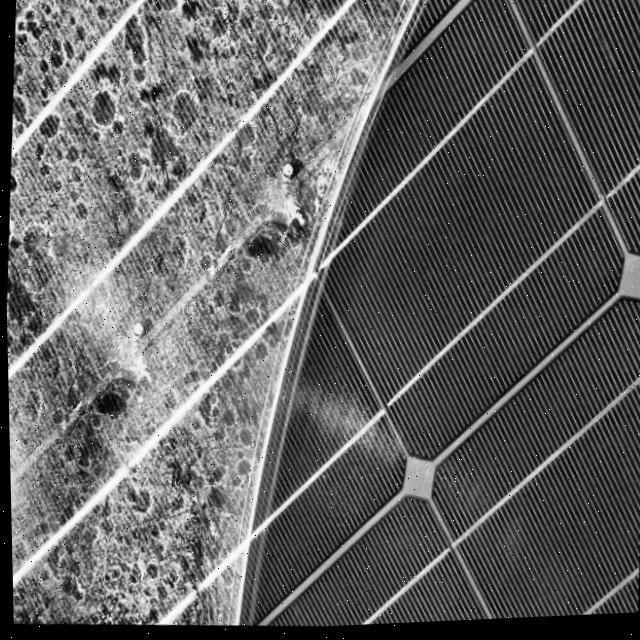Anomaly Solar Panel: (5, 0, 640, 629)
Surface Contaminant: (5, 0, 422, 628)
